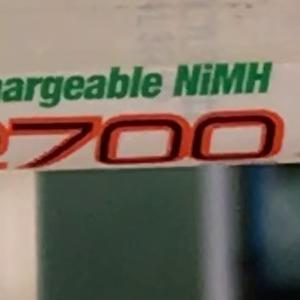NIMH: (163, 52, 282, 106)
